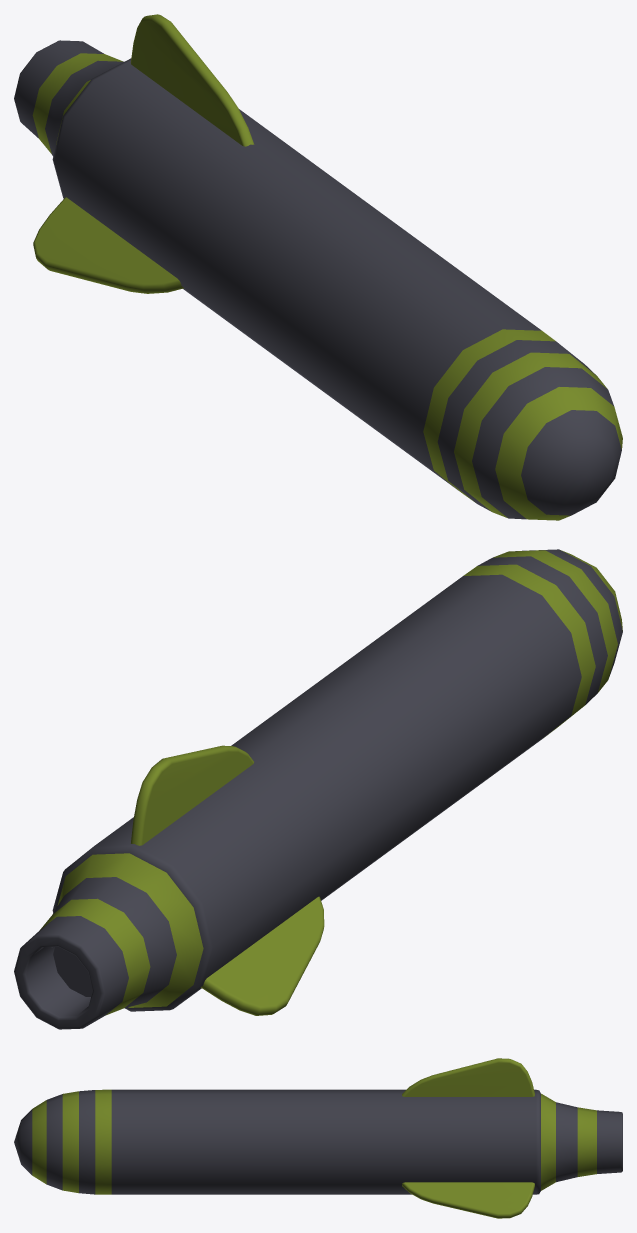
File: toye_rocket_v01.fbx
3 views of the same model, one above another, from view 1: azimuth 30°, elevation 25°; view 2: azimuth 150°, elevation 25°; view 3: azimuth 270°, elevation 25° (orthographic). The views are drawn at different scales.
Parts seen in each view (by area): view 1: rocket; view 2: rocket; view 3: rocket.
Boxes of the visible parts, x1,y1,x2,y2 form: rocket: [14, 14, 622, 520]; rocket: [14, 549, 622, 1029]; rocket: [14, 1058, 622, 1218].
Size of the model in its own units: 11.33 by 10.19 by 42.88.
